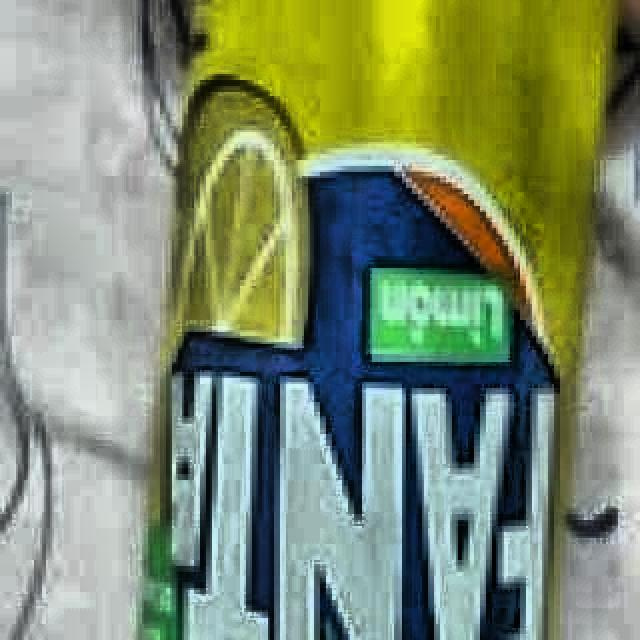metal: (136, 0, 614, 640)
